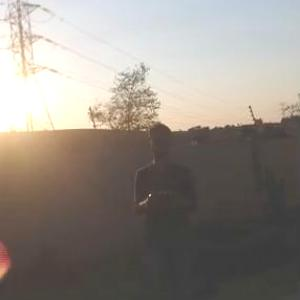follow: (130, 117, 205, 299)
